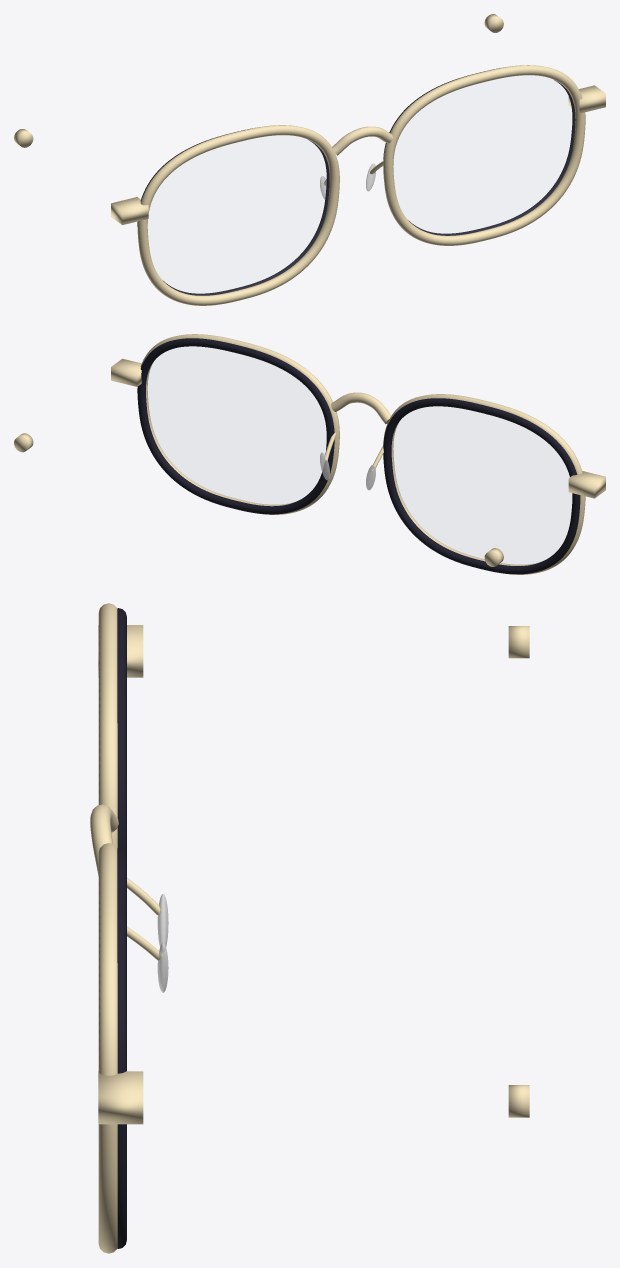
Rendered from gafas-frontal.glb.
3 renders of one model, top to bottom at view 1: azimuth 30°, elevation 25°; view 2: azimuth 150°, elevation 25°; view 3: azimuth 270°, elevation 25°, orthographic. The views are drawn at different scales.
Parts seen in each view (by area): view 1: G_Aro_D, G_Aro_I, G_AroInt_I, G_AroInt_D, G_Union_I, G_Puente, G_Union_D; view 2: G_AroInt_D, G_AroInt_I, G_Aro_D, G_Aro_I, G_Union_I, G_Puente, G_Union_D; view 3: G_Aro_D, G_Aro_I, G_AroInt_D, G_Union_D, G_AroInt_I, G_Puente, G_Union_I.
Part boxes in pixels (x1,y1,x2,y2): G_Aro_D: (383,65,585,245); G_Aro_I: (137,125,339,305); G_AroInt_I: (137,128,329,295); G_AroInt_D: (383,68,575,235); G_Union_I: (111,197,148,224); G_Puente: (332,126,392,155); G_Union_D: (568,85,605,113); G_AroInt_D: (137,338,334,514); G_AroInt_I: (383,398,580,574); G_Aro_D: (140,334,339,514); G_Aro_I: (383,394,585,574); G_Union_I: (568,471,605,498); G_Puente: (331,392,390,424); G_Union_D: (111,358,148,386); G_Aro_D: (98,843,117,1253); G_Aro_I: (98,603,117,847); G_AroInt_D: (117,848,126,1248); G_Union_D: (98,1071,143,1124); G_AroInt_I: (117,608,126,855); G_Puente: (90,804,118,875); G_Union_I: (98,625,143,677).
Size of what is drawn, in the model's own units: 1.85 by 0.614 by 0.7283.
